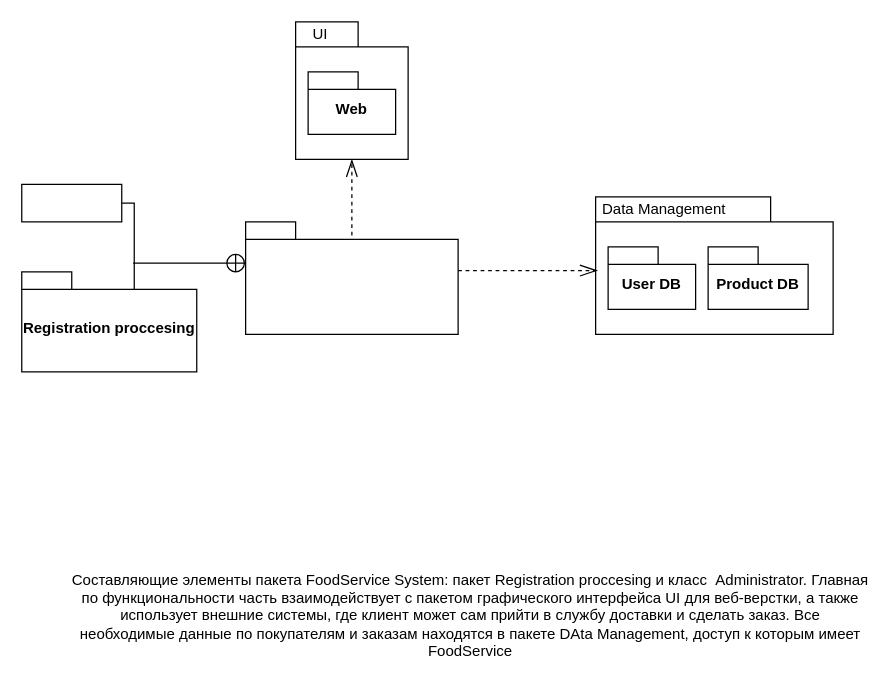
This 893x683 diagram has some shape labels left out. Each missing label, with the centre of its shape:
"Administrator" goes at (71,202).
"FoodService System" goes at (351,277).
